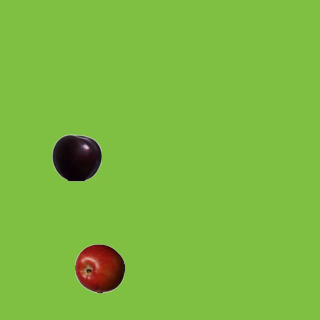Apple Braeburn: (74, 243, 124, 293)
Cherry Wax Black: (51, 132, 101, 182)
